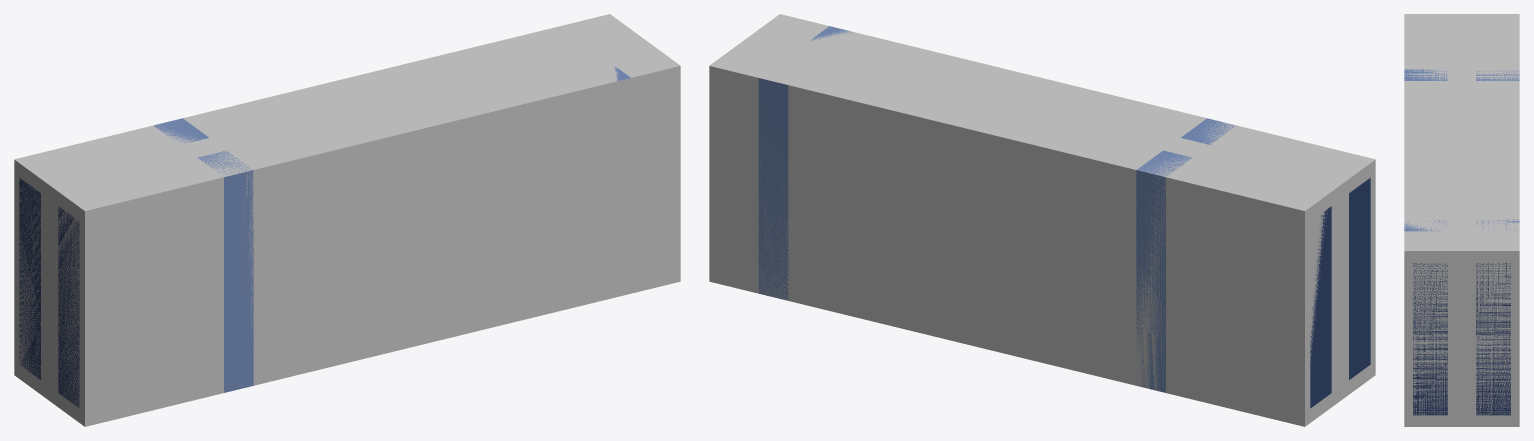
Rendered from SM_Railroad_Middle.fbx.
3 renders of one model, left to right at view 1: azimuth 30°, elevation 25°; view 2: azimuth 150°, elevation 25°; view 3: azimuth 270°, elevation 25°, orthographic. The views are drawn at different scales.
Visible parts, largest first — view 1: SM_Railroad_Middle_ConvexHulls, SM_Railroad_Middle; view 2: SM_Railroad_Middle_ConvexHulls, SM_Railroad_Middle; view 3: SM_Railroad_Middle_ConvexHulls, SM_Railroad_Middle.
Part boxes in pixels (<box>): SM_Railroad_Middle_ConvexHulls: <box>14,14,680,426</box>; SM_Railroad_Middle: <box>19,66,630,407</box>; SM_Railroad_Middle_ConvexHulls: <box>709,14,1375,426</box>; SM_Railroad_Middle: <box>758,26,1370,408</box>; SM_Railroad_Middle_ConvexHulls: <box>1404,14,1519,426</box>; SM_Railroad_Middle: <box>1404,69,1519,415</box>.
Bounding box in the file's own units: 400 × 82.35 × 138.
2 materials, 1 textured.
